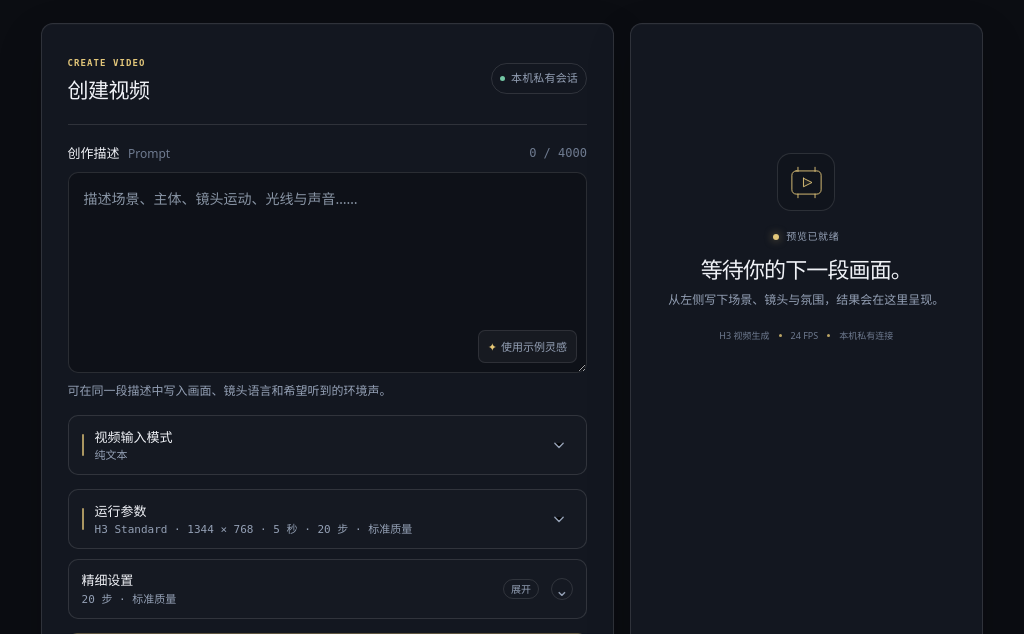
H3 Studio primary screen › keeps the random seed out of the collapsed advanced-settings summary
Click the button "精细设置 20 步 · 标准质量 展开 ⌄": click(107, 580) [68, 560, 586, 618]
(page scrolled)
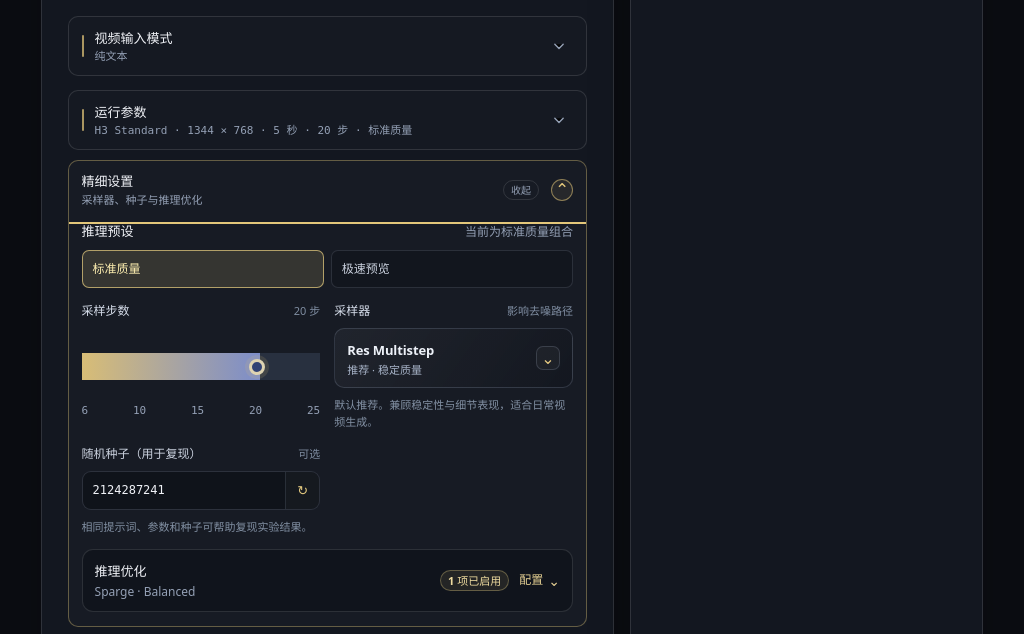
Result: the label labelled "采样器" holds "res_multistep"
Result: the text "推荐 · 稳定质量" is shown at [347, 363, 434, 377]
Select "Euler" in the dropdown labelled "采样器": (352, 311) [334, 302, 370, 320]
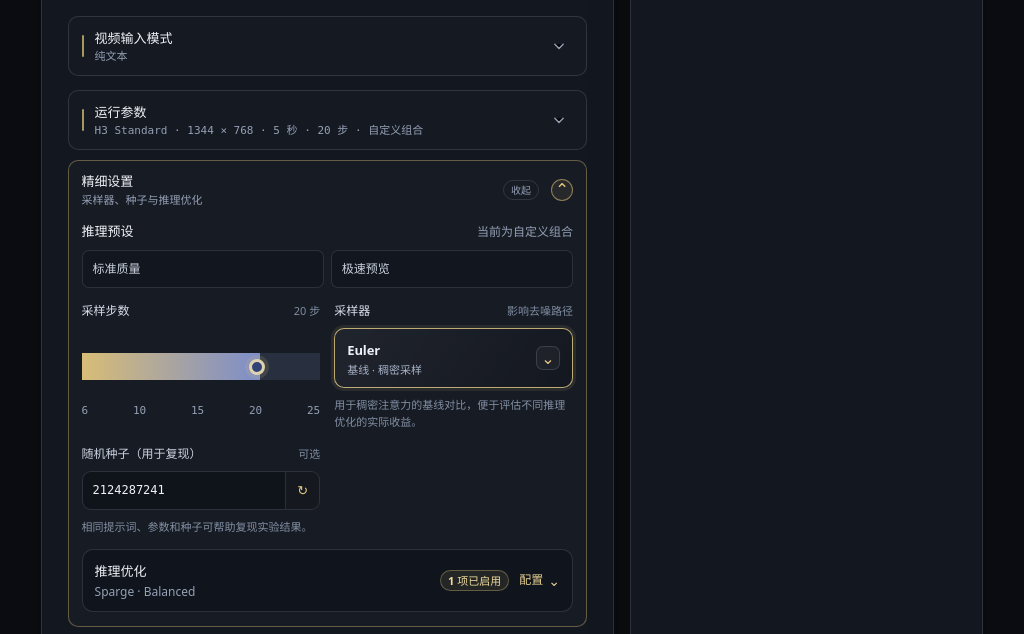
Result: the field labelled "随机种子（用于复现）" is shown at [82, 472, 285, 509]
Result: the text "相同提示词、参数和种子可帮助复现实验结果。" is shown at [82, 518, 320, 535]
Result: the text "基线 · 稠密采样" is shown at [347, 363, 422, 377]
